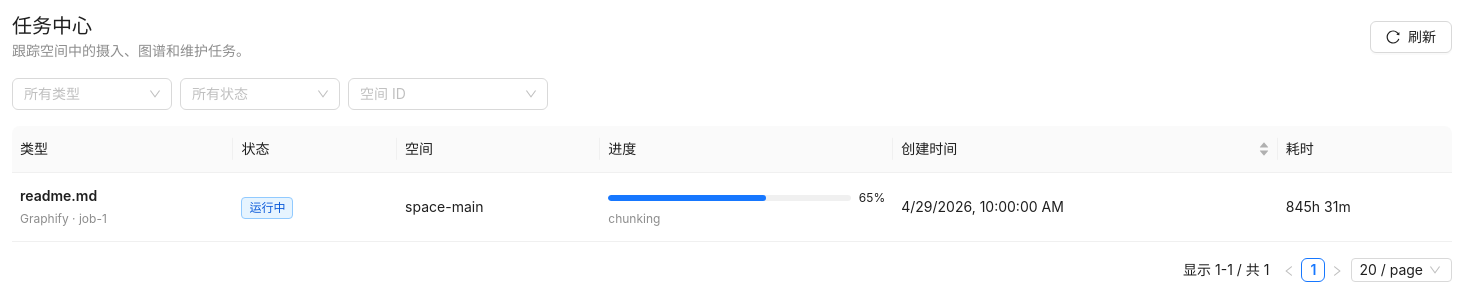
Test: JobsPage › loads space options in the dropdown
Press the mouse on the dropdown named "空间" at x=439, y=94, box [360,79,518,109]
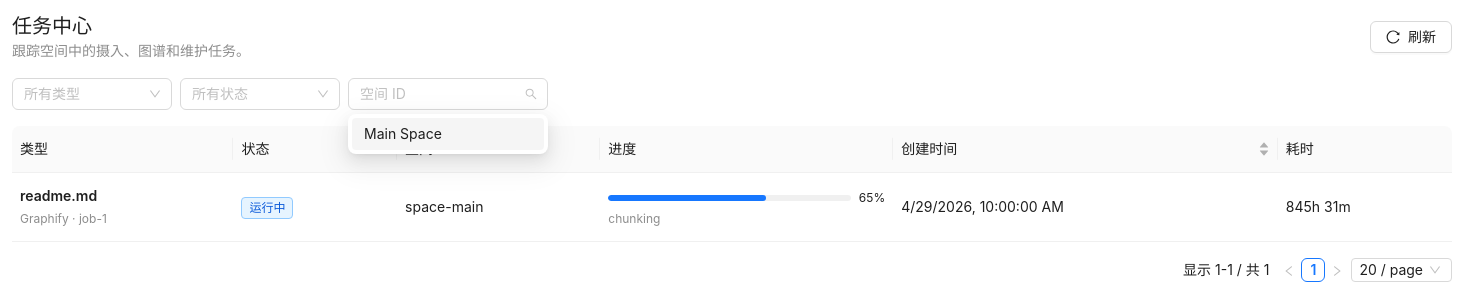
Check: the text "Main Space" is shown, box [364,125,442,142]
